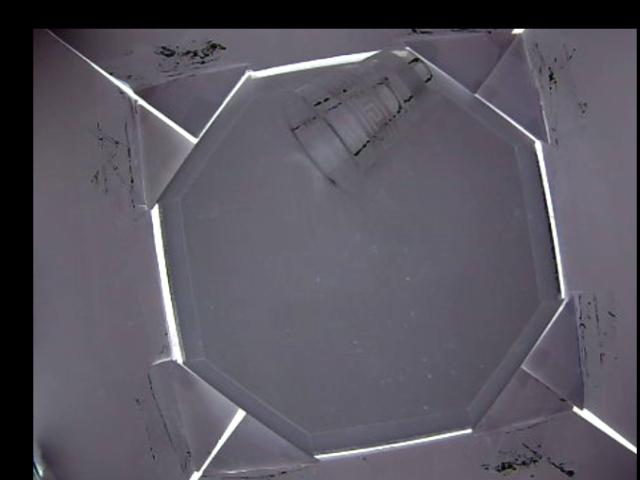Cup: (280, 47, 432, 188)
